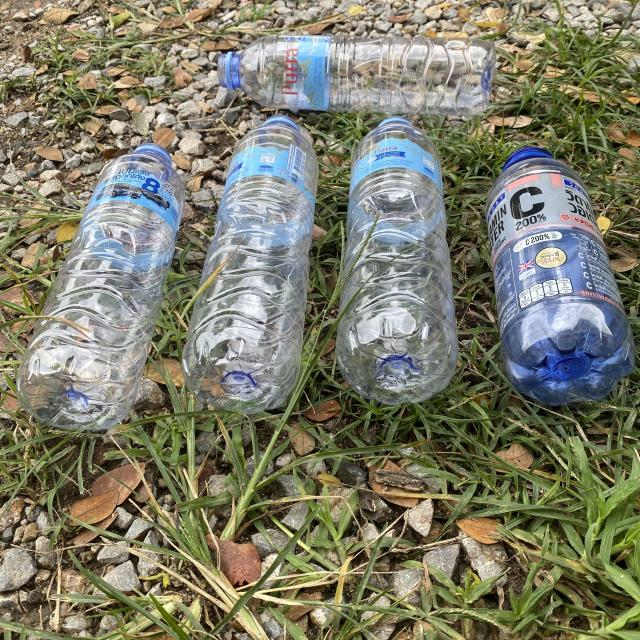plastik: (18, 144, 184, 430), (182, 115, 318, 414), (486, 148, 635, 405), (336, 116, 459, 405), (218, 35, 496, 116)
